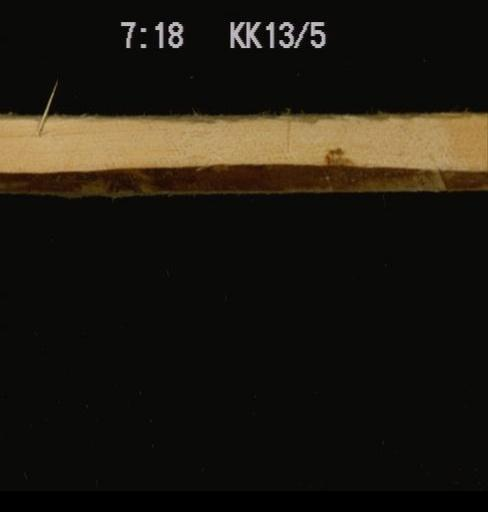wave: (0, 154, 486, 198)
